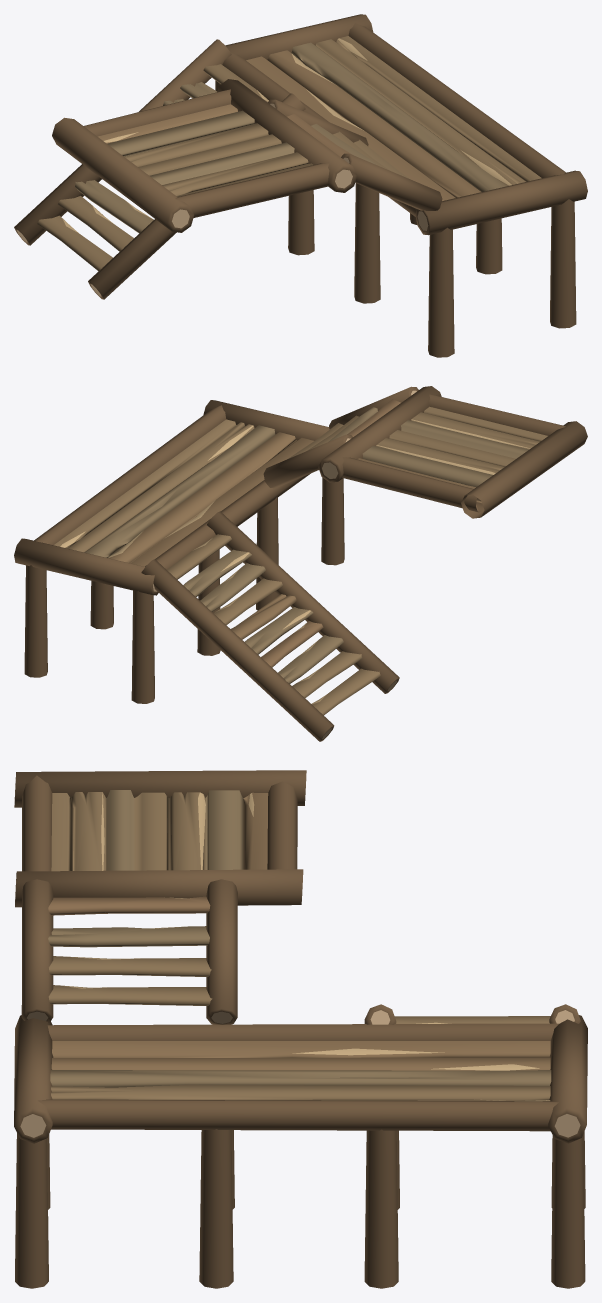
Rendered from rpgpp_ag_stairs_interior_02e_3m.fbx.
3 views of the same model, one above another, from view 1: azimuth 30°, elevation 25°; view 2: azimuth 150°, elevation 25°; view 3: azimuth 270°, elevation 25° (orthographic). The views are drawn at different scales.
Visible parts, largest first — view 1: rpgpp_ag_stairs_interior_02e_3m; view 2: rpgpp_ag_stairs_interior_02e_3m; view 3: rpgpp_ag_stairs_interior_02e_3m.
Boxes of the visible parts, box(x1,y1,x2,y2) form: rpgpp_ag_stairs_interior_02e_3m: box(14, 14, 587, 357); rpgpp_ag_stairs_interior_02e_3m: box(14, 386, 587, 741); rpgpp_ag_stairs_interior_02e_3m: box(14, 770, 587, 1288).
Size of the model in its own units: 6.25 by 3.12 by 5.91.
